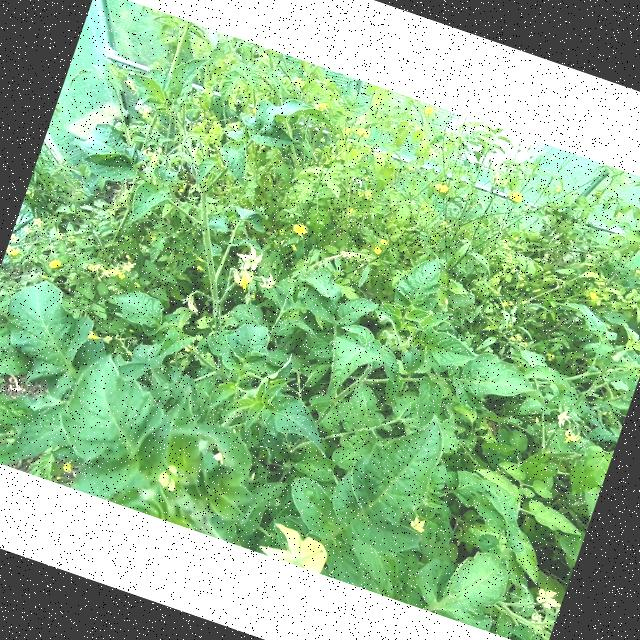Flowers: (257, 518, 333, 574), (234, 242, 267, 274), (156, 462, 186, 494), (228, 268, 259, 294), (180, 287, 205, 314), (486, 167, 512, 190), (554, 406, 572, 431), (288, 220, 310, 239), (258, 272, 277, 292), (106, 264, 128, 281), (562, 429, 582, 446), (121, 77, 138, 91), (97, 266, 114, 280), (6, 244, 22, 258), (356, 126, 371, 140), (433, 180, 449, 193), (48, 256, 62, 270), (509, 191, 524, 204), (59, 460, 72, 474), (85, 330, 100, 342), (8, 232, 21, 245), (316, 100, 330, 112), (422, 105, 436, 117), (149, 154, 161, 167), (32, 215, 44, 228), (90, 260, 103, 272), (588, 290, 600, 302), (140, 146, 152, 158), (120, 262, 133, 272), (364, 189, 374, 201), (372, 244, 382, 254), (355, 188, 364, 198), (125, 260, 136, 268), (24, 226, 34, 234), (55, 230, 64, 238), (379, 238, 387, 246), (156, 146, 163, 154), (345, 127, 351, 135), (346, 207, 352, 214)
